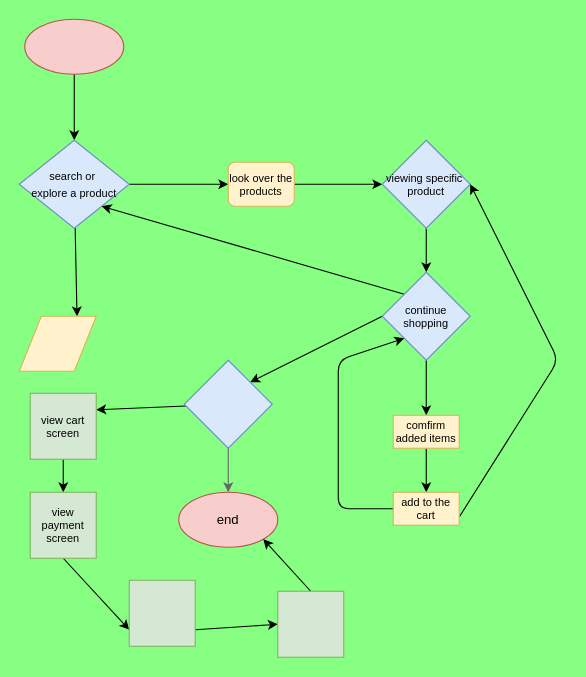
The diagram is 586 pixels wide and 677 high, and some of its shapes have lost their labels. Here are the shapes that lost their labels. From the top down, the centre of each, then its label:
At [74,46]: "Start".
At [57,343]: "input".
At [227,403]: "checkout".
At [161,612]: "payment information".
At [310,623]: "order confirmation email".
